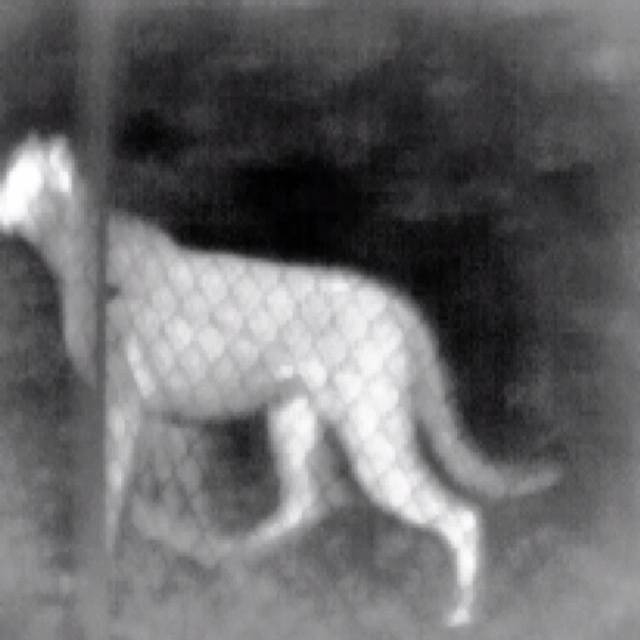cheetah: (0, 132, 565, 628)
